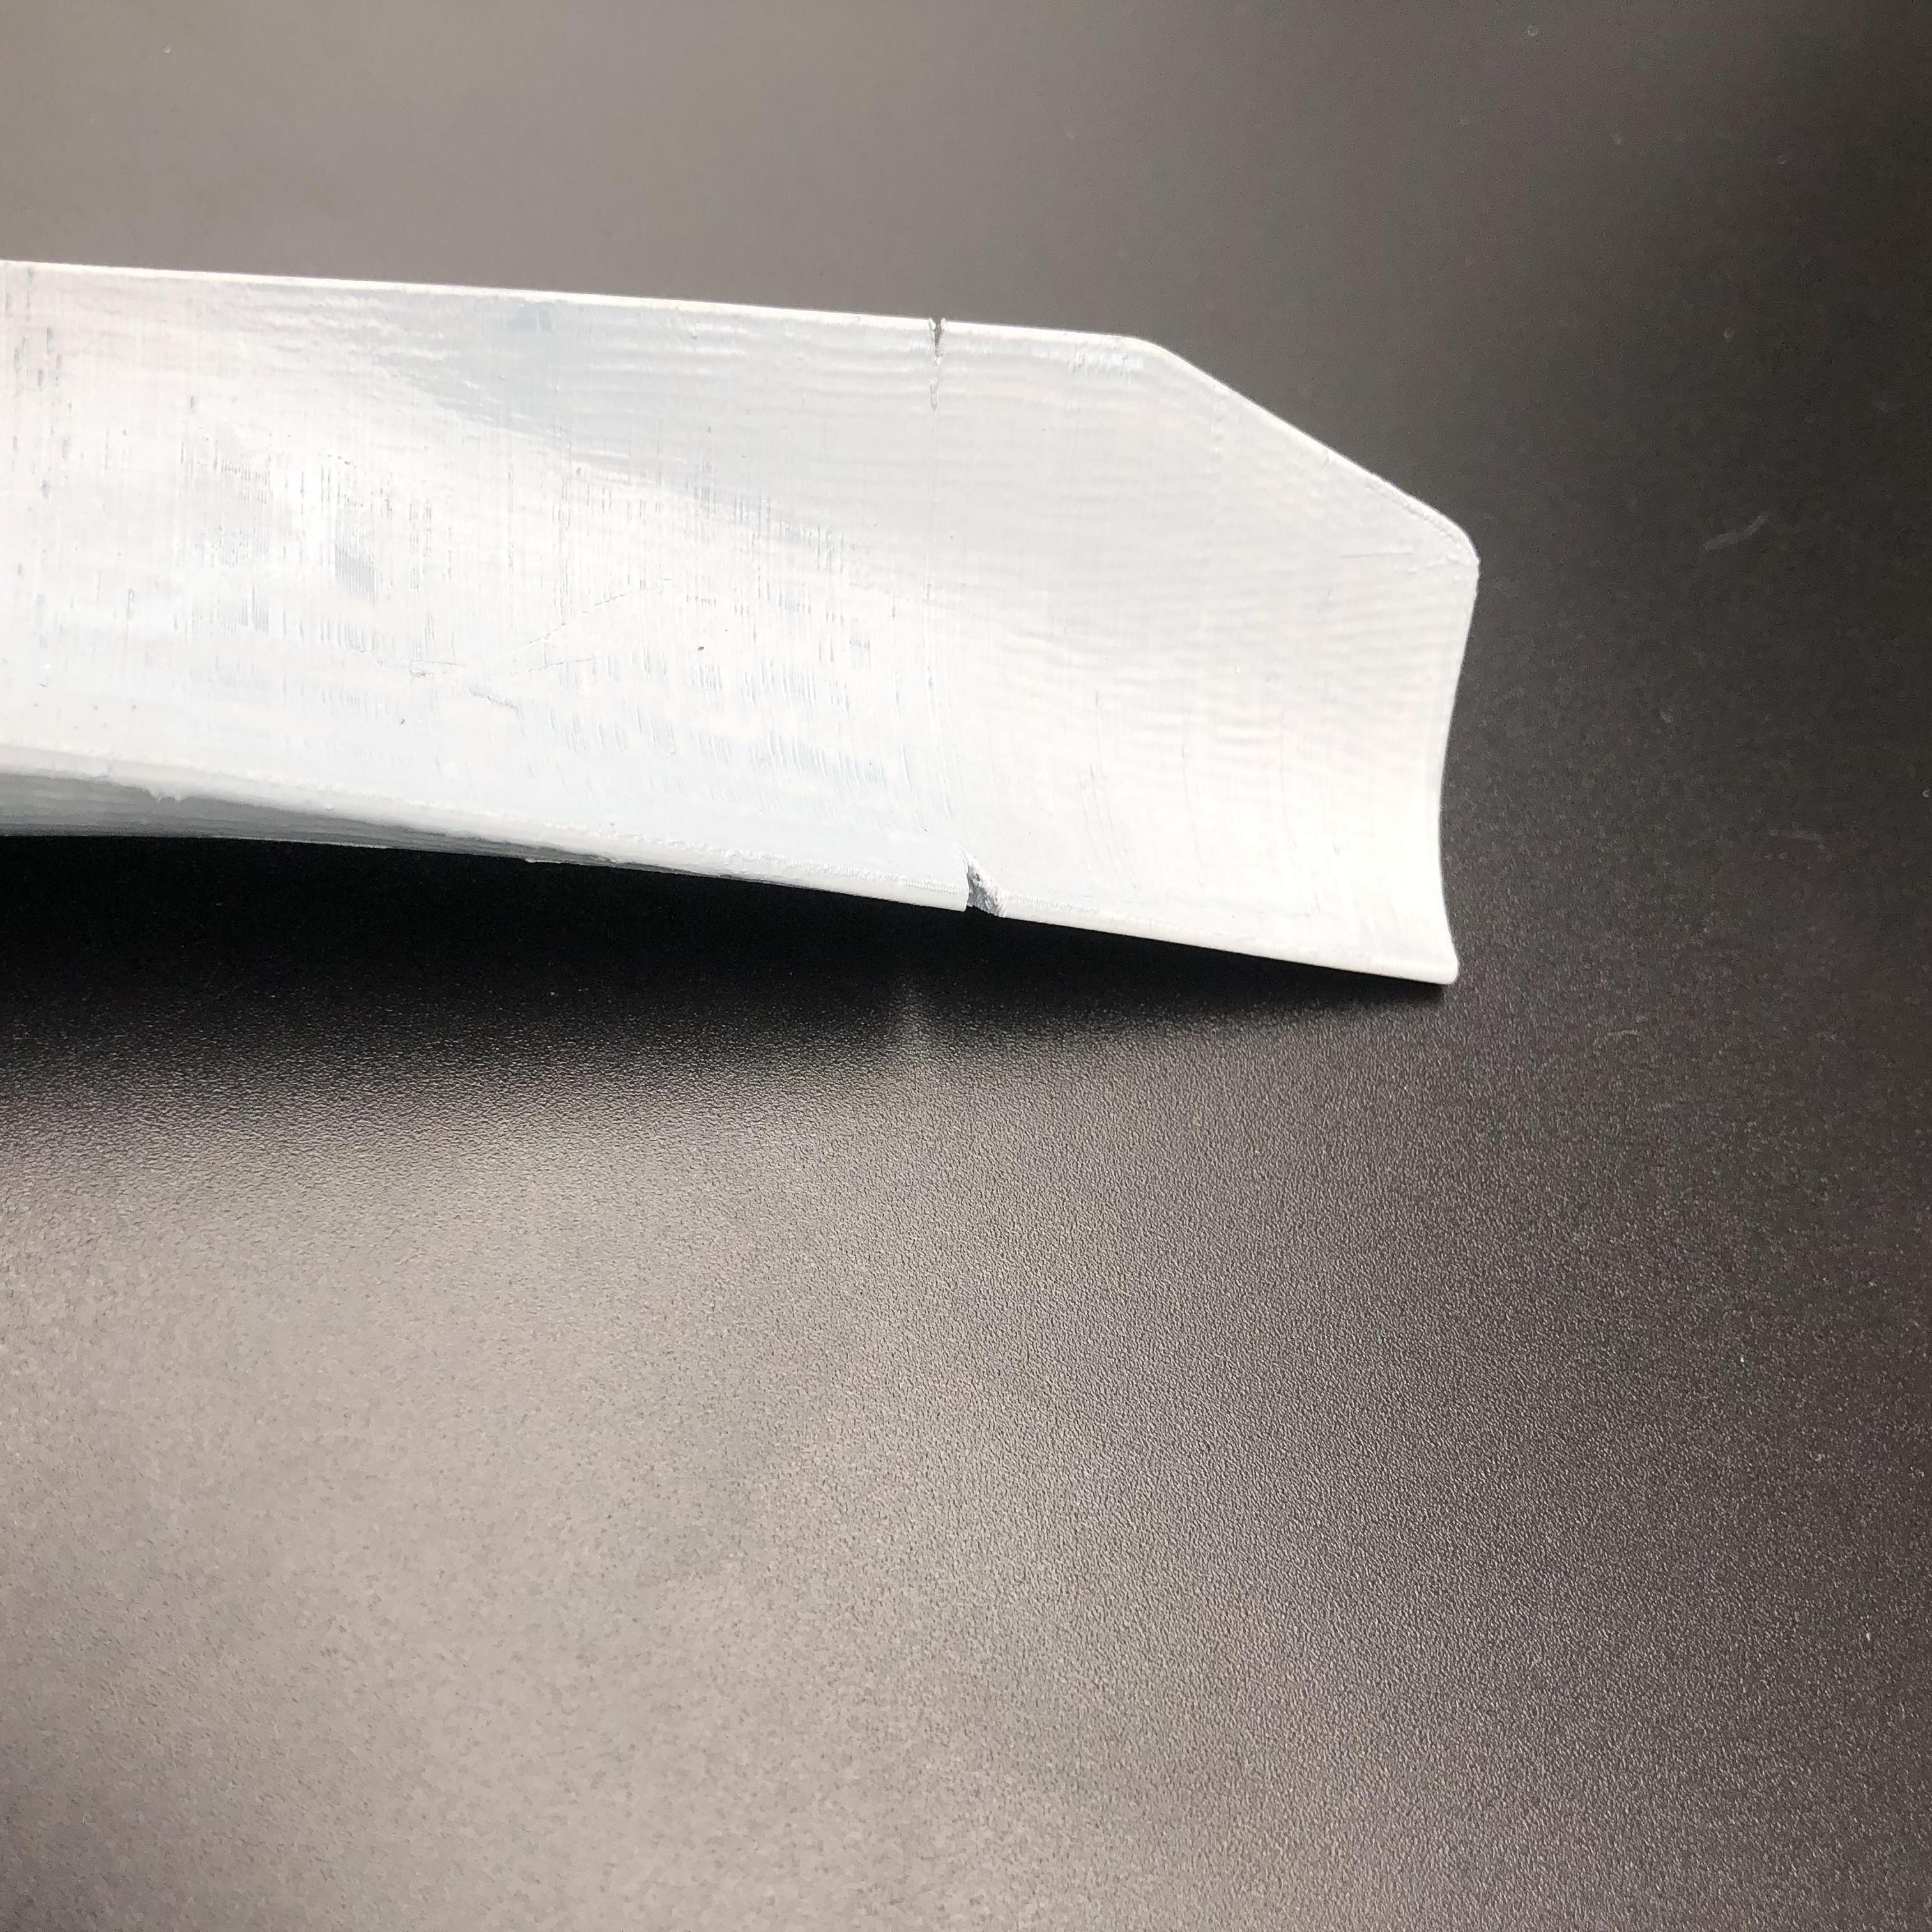groove: (962, 869, 1023, 925), (920, 318, 952, 350)
